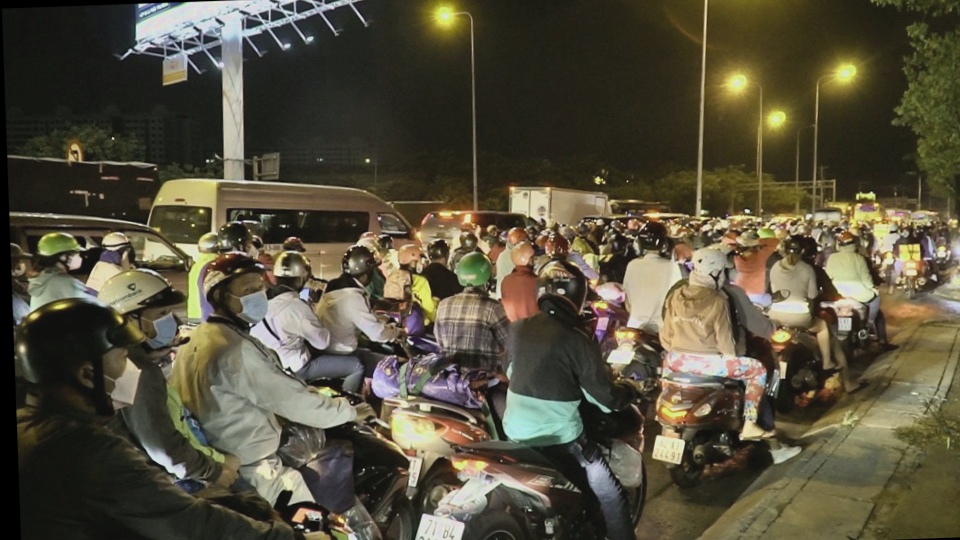Bien-so: (353, 492, 409, 534), (593, 427, 628, 461), (557, 341, 587, 359), (785, 323, 800, 336)
